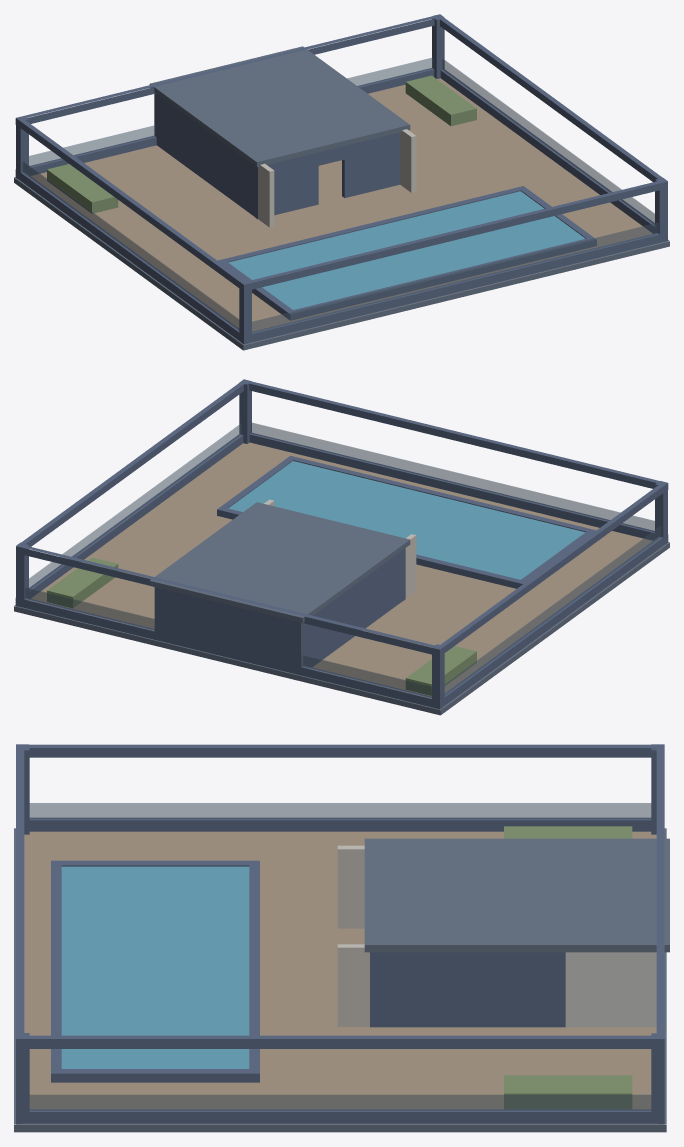
The model's file is office-roof-b.glass-v1.lod0.glb.
The picture shows the model from 3 angles, top to bottom: view 1: azimuth 30°, elevation 25°; view 2: azimuth 150°, elevation 25°; view 3: azimuth 270°, elevation 25°; orthographic projection. The views are drawn at different scales.
Parts seen in each view (by area): view 1: office-roof-b; view 2: office-roof-b; view 3: office-roof-b.
Boxes of the visible parts, bbox=[...] form: office-roof-b: bbox=[14, 14, 669, 350]; office-roof-b: bbox=[14, 379, 669, 715]; office-roof-b: bbox=[14, 744, 669, 1132].
Bounding box in the file's own units: 26.16 × 3.84 × 24.48.
